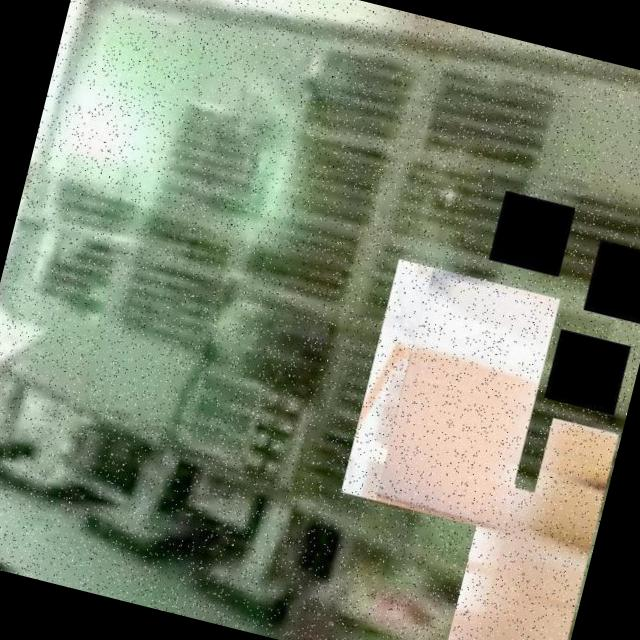box: (340, 254, 565, 538), (437, 478, 601, 640), (520, 417, 620, 562)
